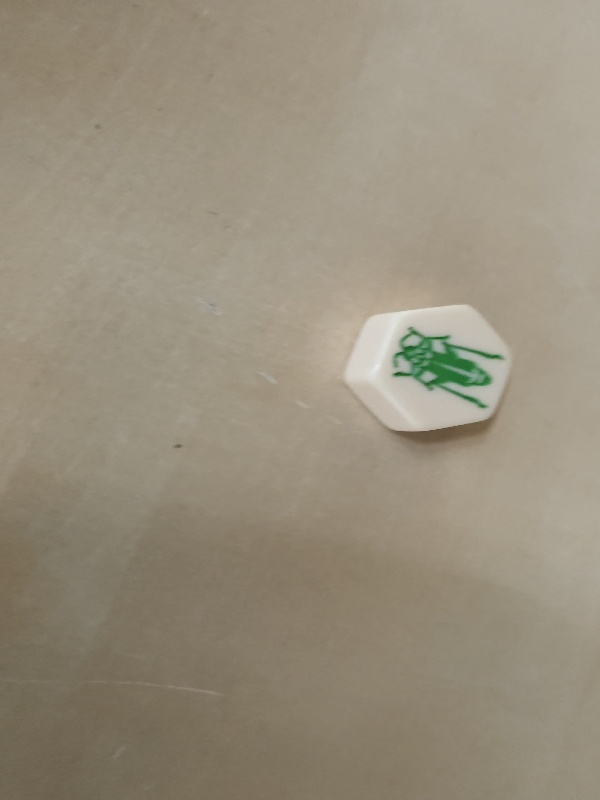white_grasshopper: (349, 299, 512, 438)
